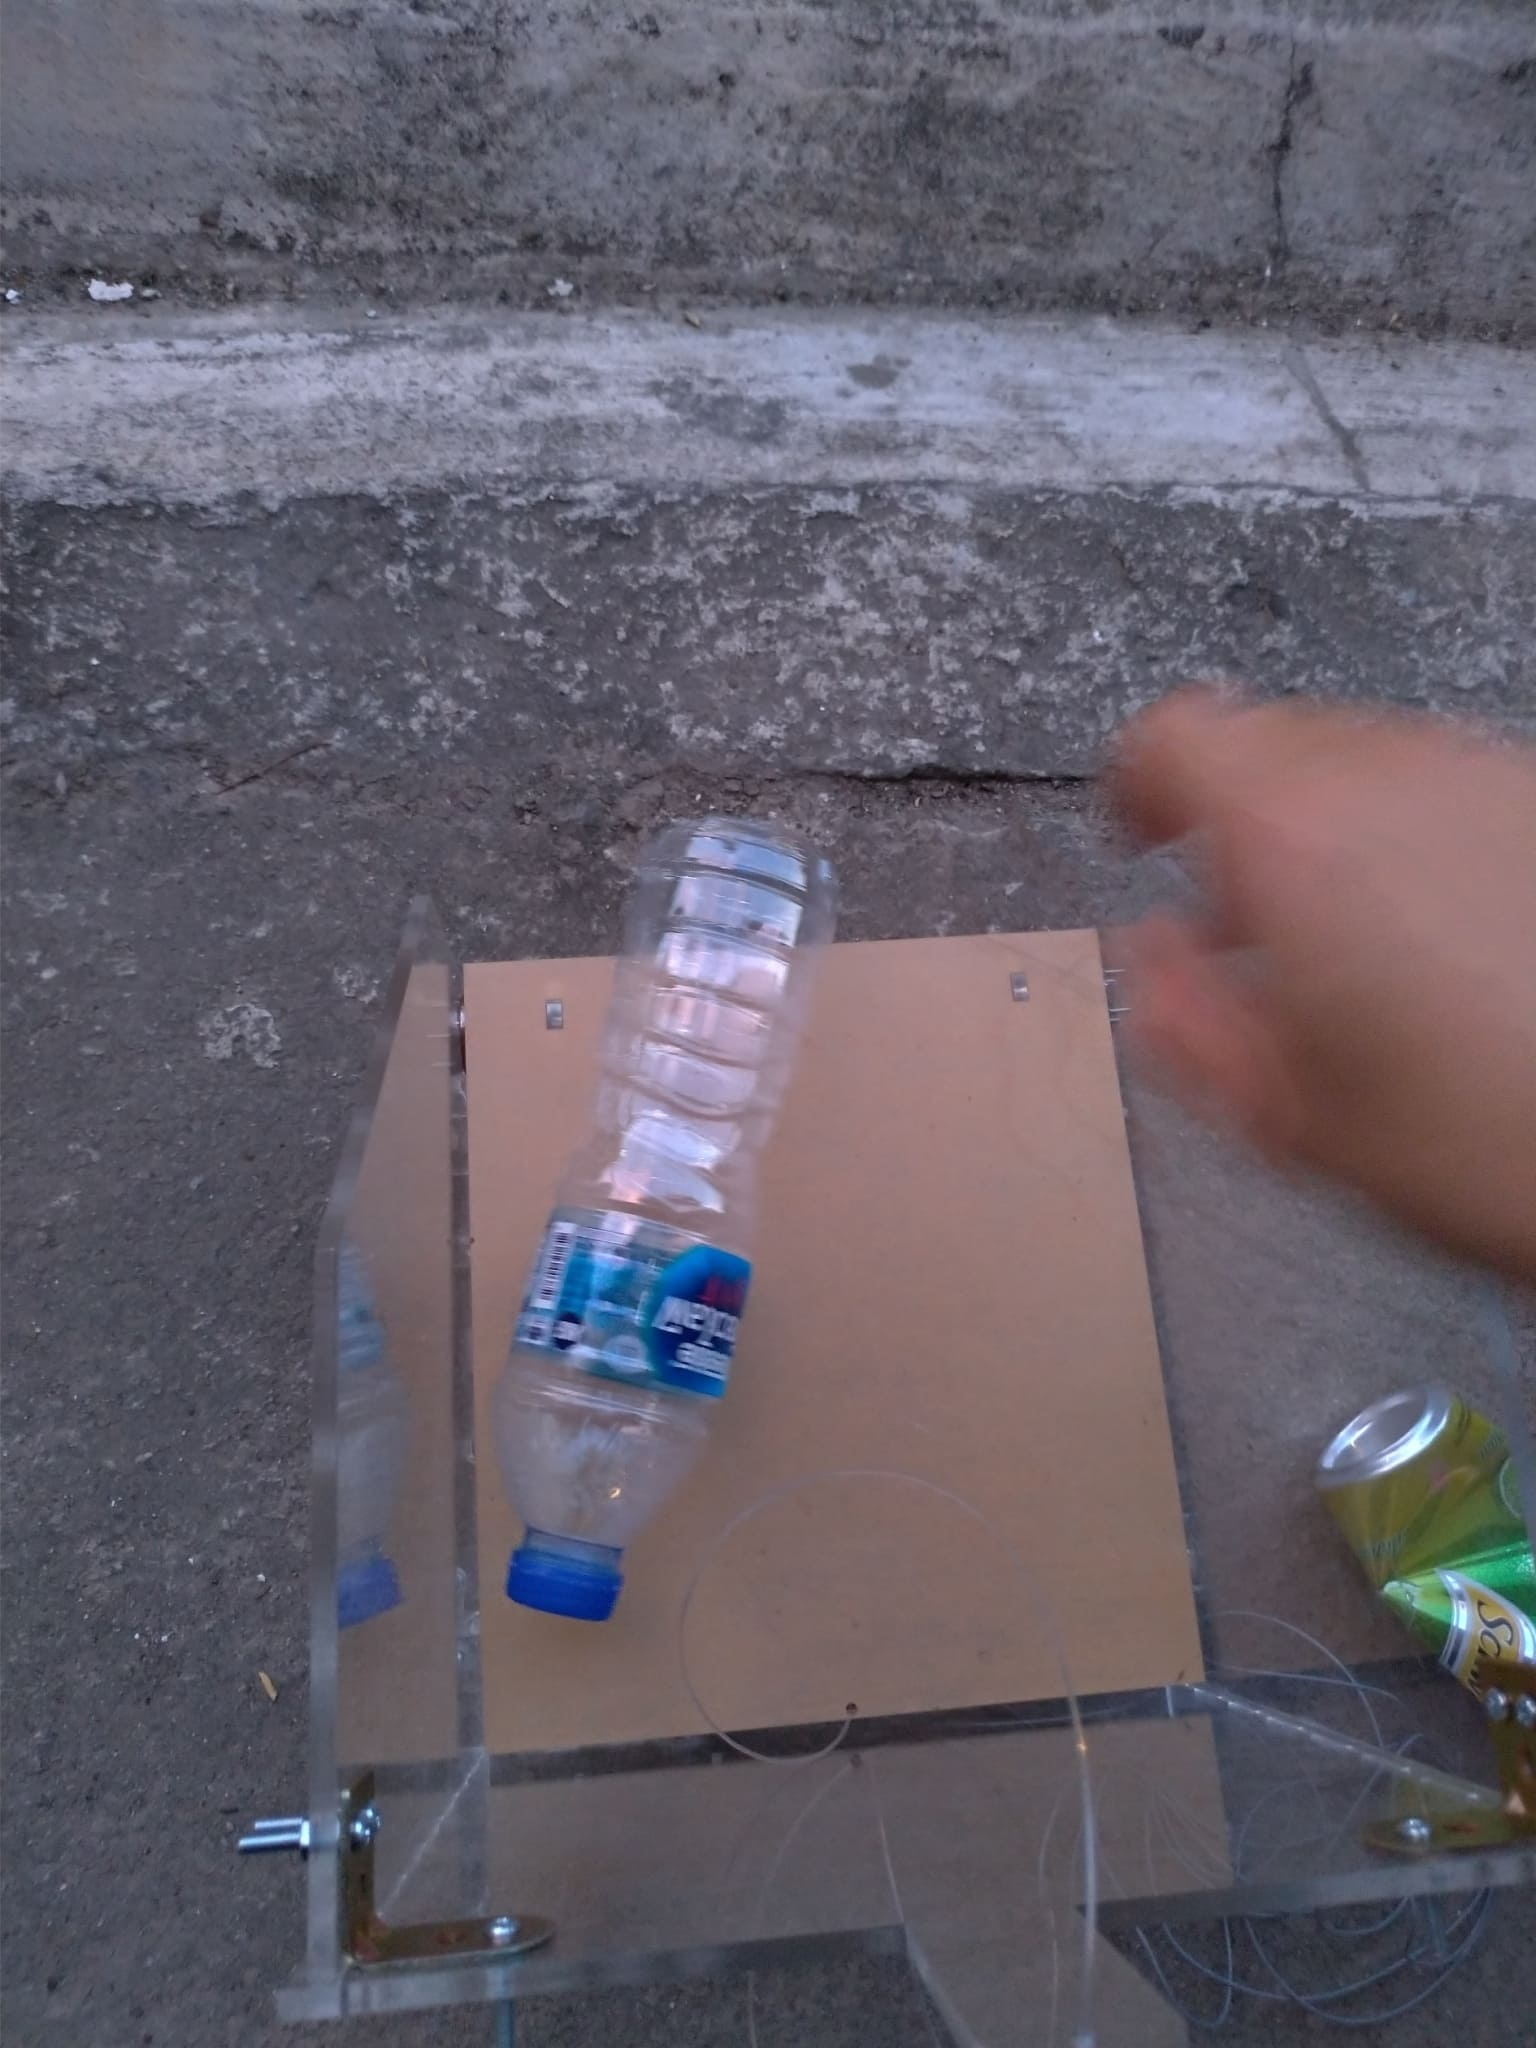AlCan: (1325, 1390, 1536, 1730)
PlasticBottle: (489, 819, 844, 1625)
